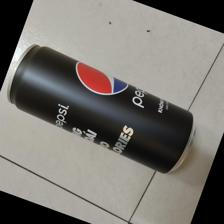Pepsi: (6, 44, 198, 174)
